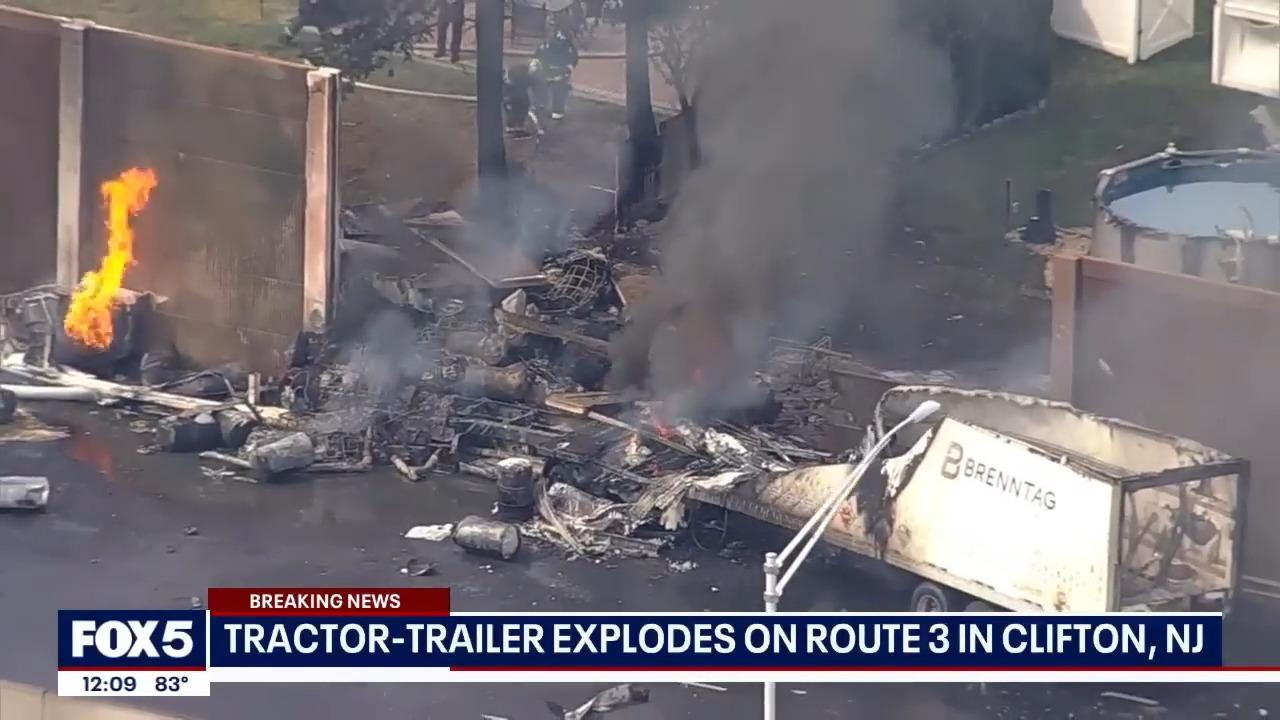fire: (59, 155, 175, 357)
